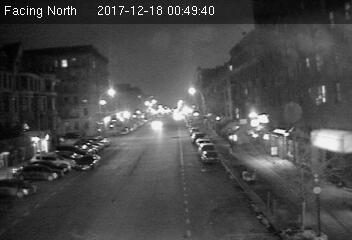car: (73, 154, 101, 169), (198, 149, 218, 162)
